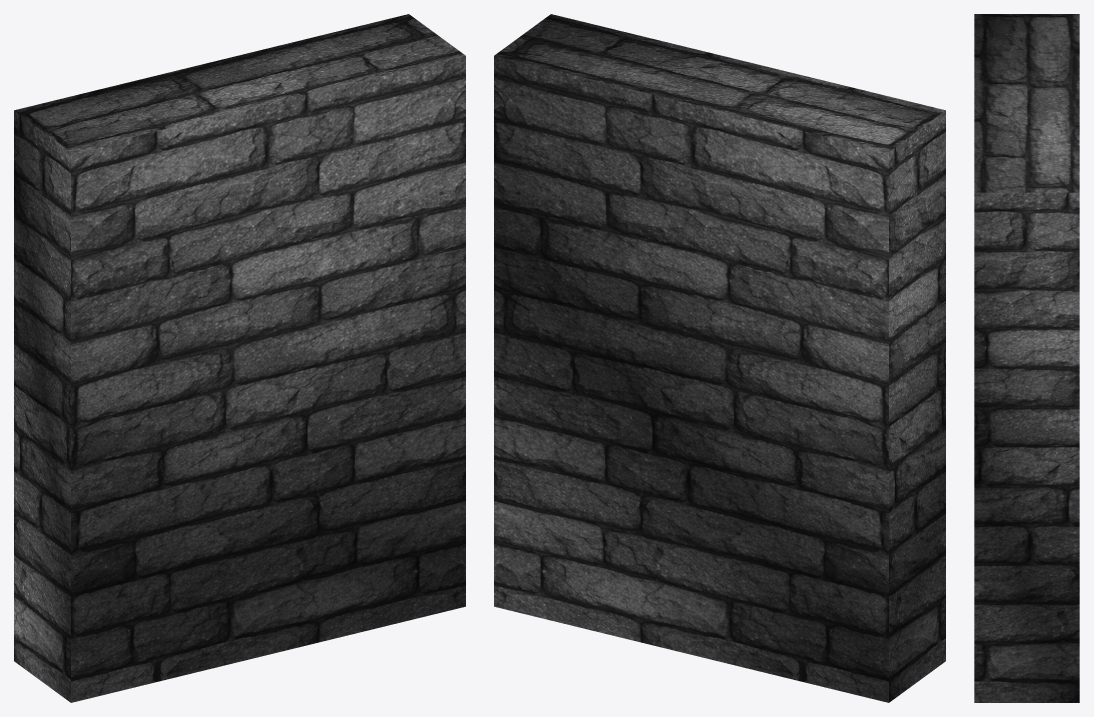
File: small wall.glb
The picture shows the model from 3 angles, left to right: view 1: azimuth 30°, elevation 25°; view 2: azimuth 150°, elevation 25°; view 3: azimuth 270°, elevation 25°; orthographic projection. The views are drawn at different scales.
Visible parts, largest first — view 1: Wall.004; view 2: Wall.004; view 3: Wall.004.
Boxes of the visible parts, box(x1,y1,x2,y2) form: Wall.004: box(14, 14, 465, 702); Wall.004: box(494, 14, 945, 702); Wall.004: box(974, 14, 1079, 702).
Size of the model in its own units: 1.83 by 2.44 by 0.4572.
Materials: 1 (1 with a texture image).
